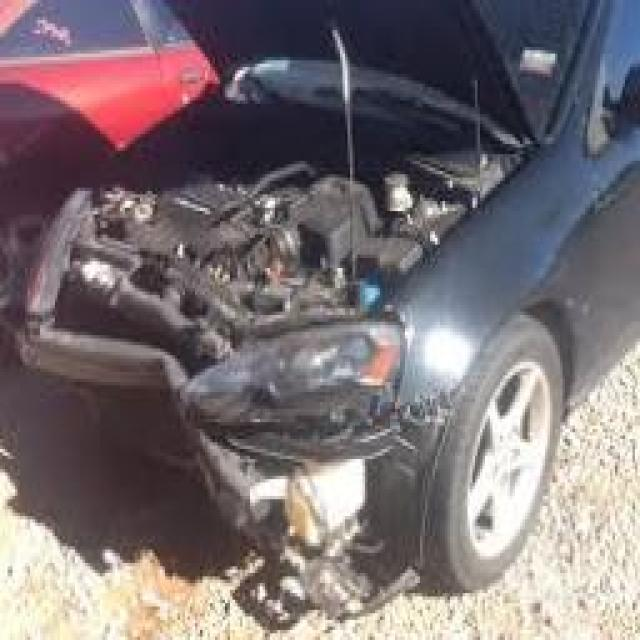Bonnet: (80, 92, 498, 330)
Bumper: (16, 183, 448, 612)
Light: (170, 314, 405, 465)
